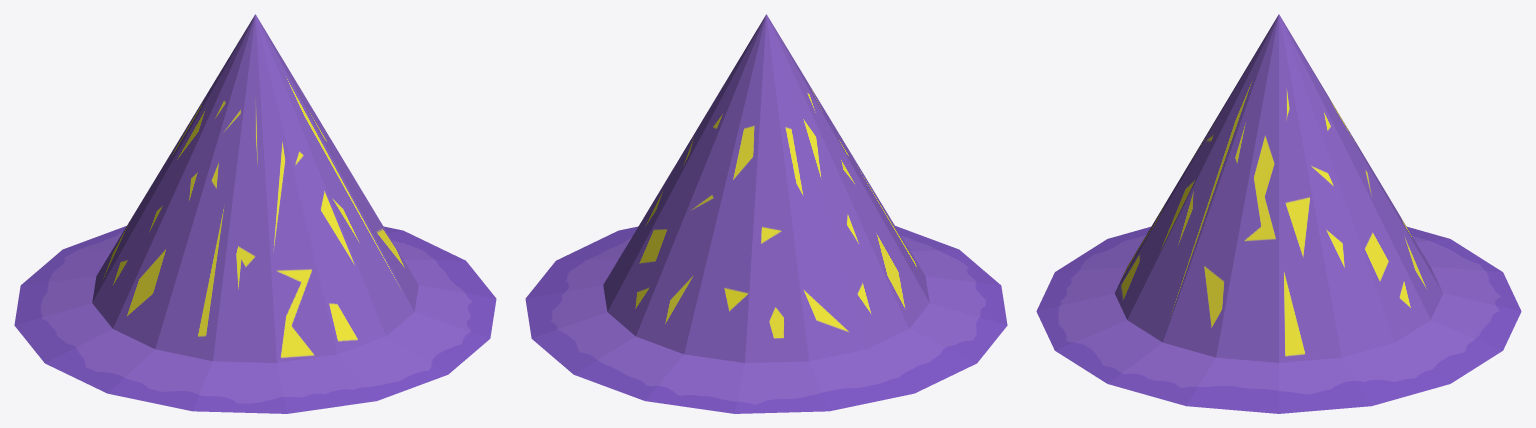
The model's file is wizardHat.fbx.
3 views of the same model, side by side, from view 1: azimuth 30°, elevation 25°; view 2: azimuth 150°, elevation 25°; view 3: azimuth 270°, elevation 25° (orthographic).
Visible parts, largest first — view 1: wizardHat; view 2: wizardHat; view 3: wizardHat.
Part boxes in pixels (x1,y1,x2,y2): wizardHat: (14, 14, 496, 413); wizardHat: (525, 14, 1007, 413); wizardHat: (1036, 14, 1521, 413).
Size of the model in its own units: 1 by 1 by 0.6764.
